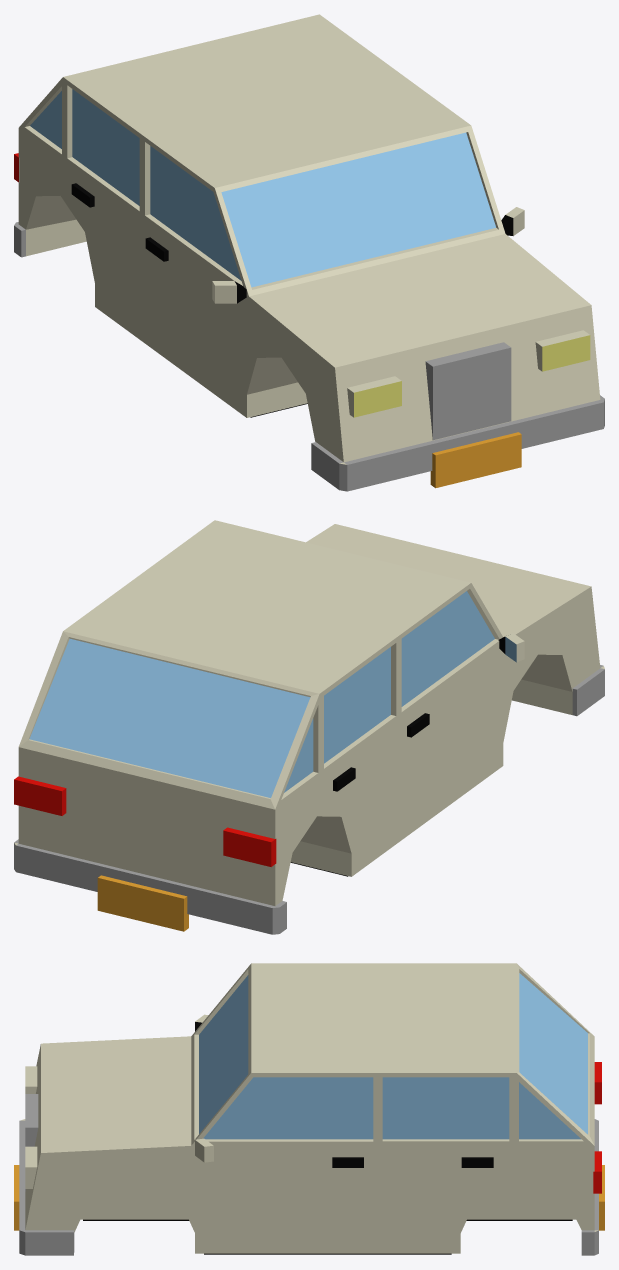
The model's file is car1.glb.
3 views of the same model, one above another, from view 1: azimuth 30°, elevation 25°; view 2: azimuth 150°, elevation 25°; view 3: azimuth 270°, elevation 25° (orthographic). The views are drawn at different scales.
Parts seen in each view (by area): view 1: Car; view 2: Car; view 3: Car.
Boxes of the visible parts, x1=… form: Car: x1=14, y1=14, x2=604, y2=491; Car: x1=14, y1=520, x2=604, y2=934; Car: x1=14, y1=963, x2=604, y2=1255.
Size of the model in its own units: 2.2 by 1.5 by 4.15.
